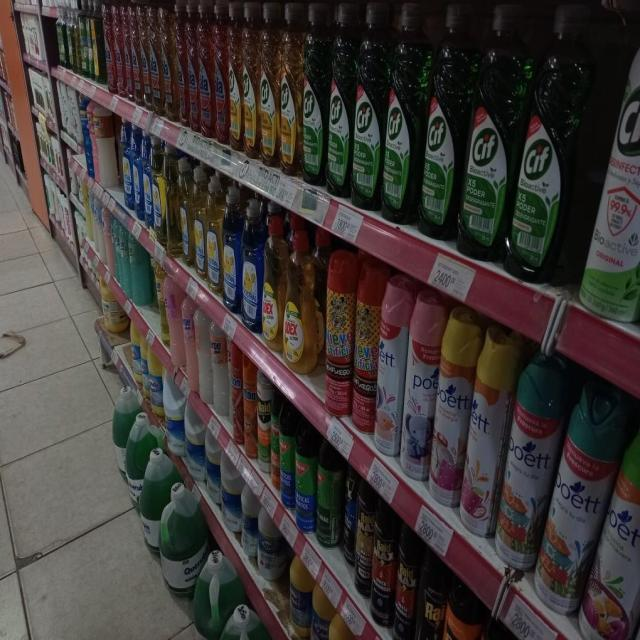ala_conc_amarillo: (161, 1, 172, 120)
ala_conc_rojo: (213, 0, 228, 144), (197, 0, 212, 136), (173, 0, 186, 126), (186, 0, 198, 132), (148, 2, 160, 114), (130, 0, 140, 106), (114, 0, 124, 96), (104, 1, 114, 93), (122, 1, 130, 99)
cif_conc_bot_amarilla: (280, 2, 302, 176), (260, 1, 280, 166), (243, 1, 259, 158), (228, 0, 242, 152)
cif_conc_botella_verde: (511, 0, 569, 283), (461, 0, 509, 260), (420, 0, 460, 240), (382, 1, 419, 224), (352, 0, 382, 211), (326, 0, 351, 198), (302, 1, 326, 186)
esencial: (92, 104, 114, 189)
heroe: (212, 321, 228, 417), (196, 304, 211, 402), (229, 336, 242, 445), (167, 274, 182, 368), (130, 234, 148, 306), (182, 294, 195, 392), (154, 260, 164, 322)
magistral_con_amarillo: (263, 210, 282, 351), (207, 174, 222, 294), (152, 138, 167, 245), (194, 164, 206, 282), (180, 158, 192, 268)
magistral_con_azul: (242, 198, 262, 333), (223, 185, 241, 312), (143, 129, 153, 228)
odex: (283, 225, 316, 371)
